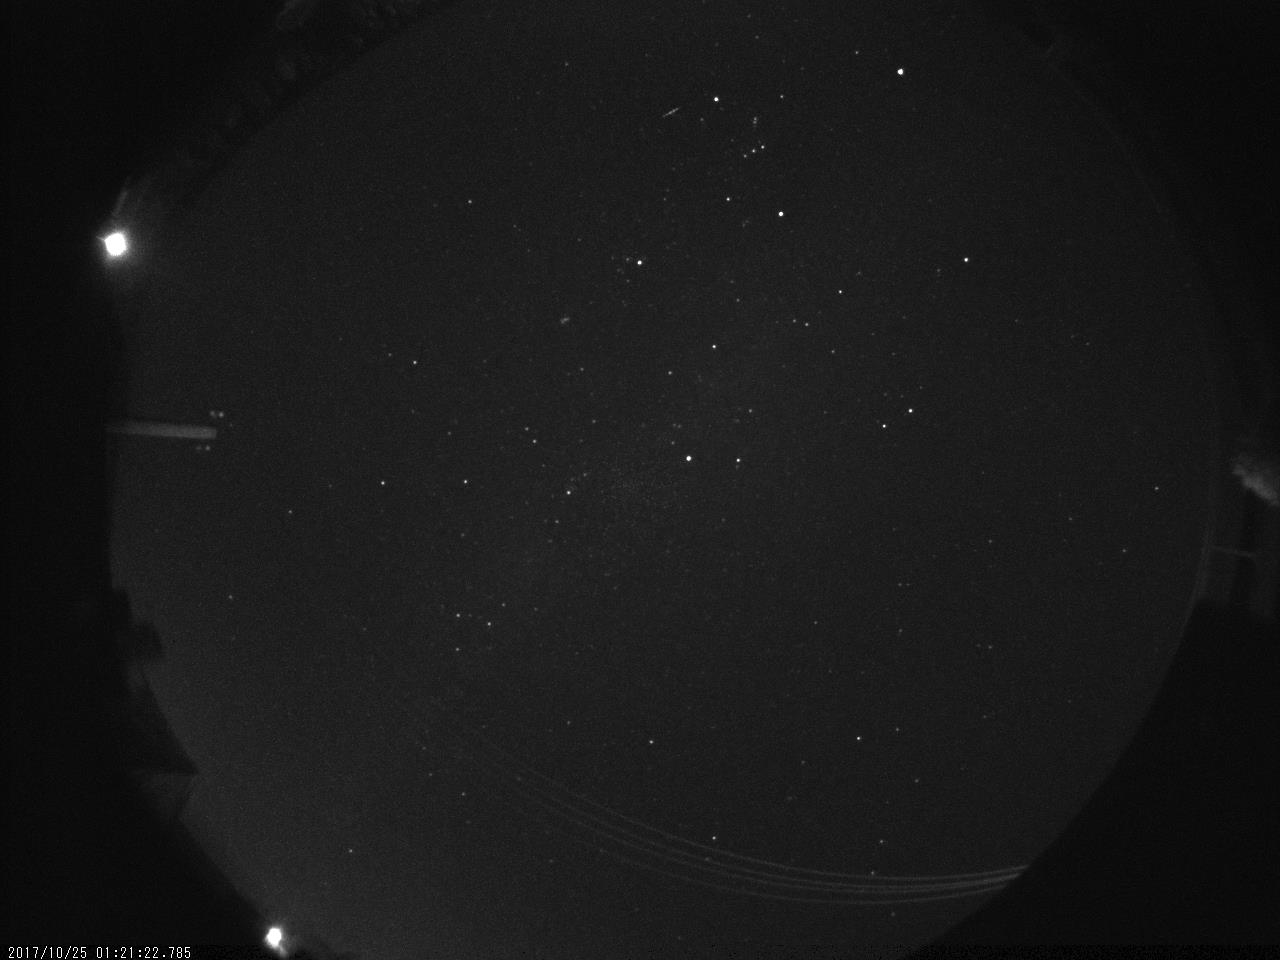meteor: (654, 100, 686, 122)
